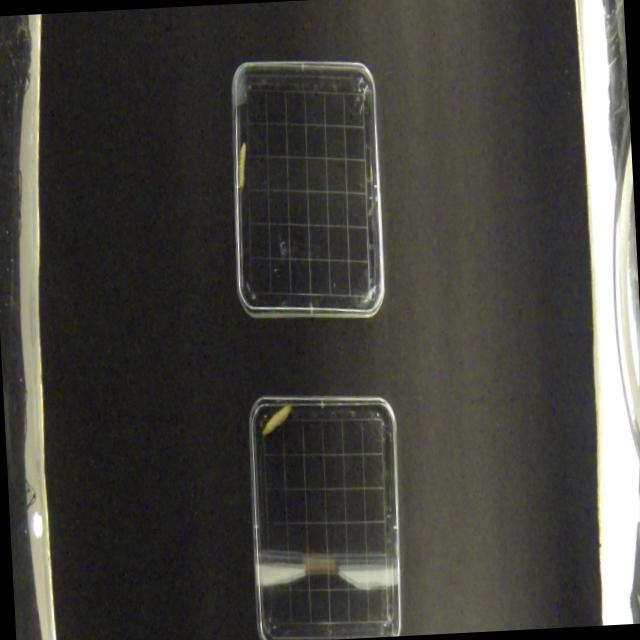larva: (260, 404, 294, 437), (235, 140, 252, 197)
